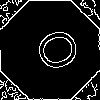O: (25, 25, 83, 79)
